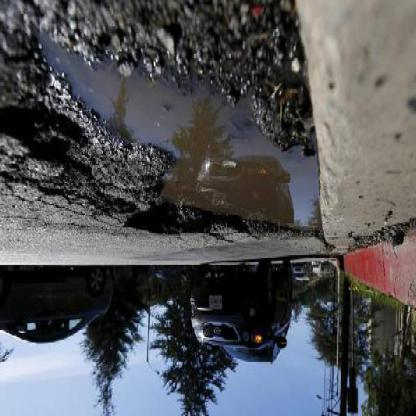pothole: (4, 2, 330, 245)
